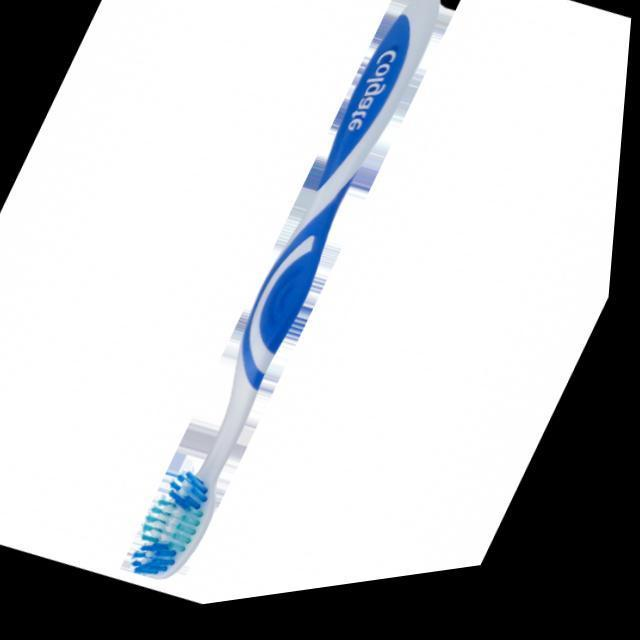toothbrush: (116, 0, 476, 608)
